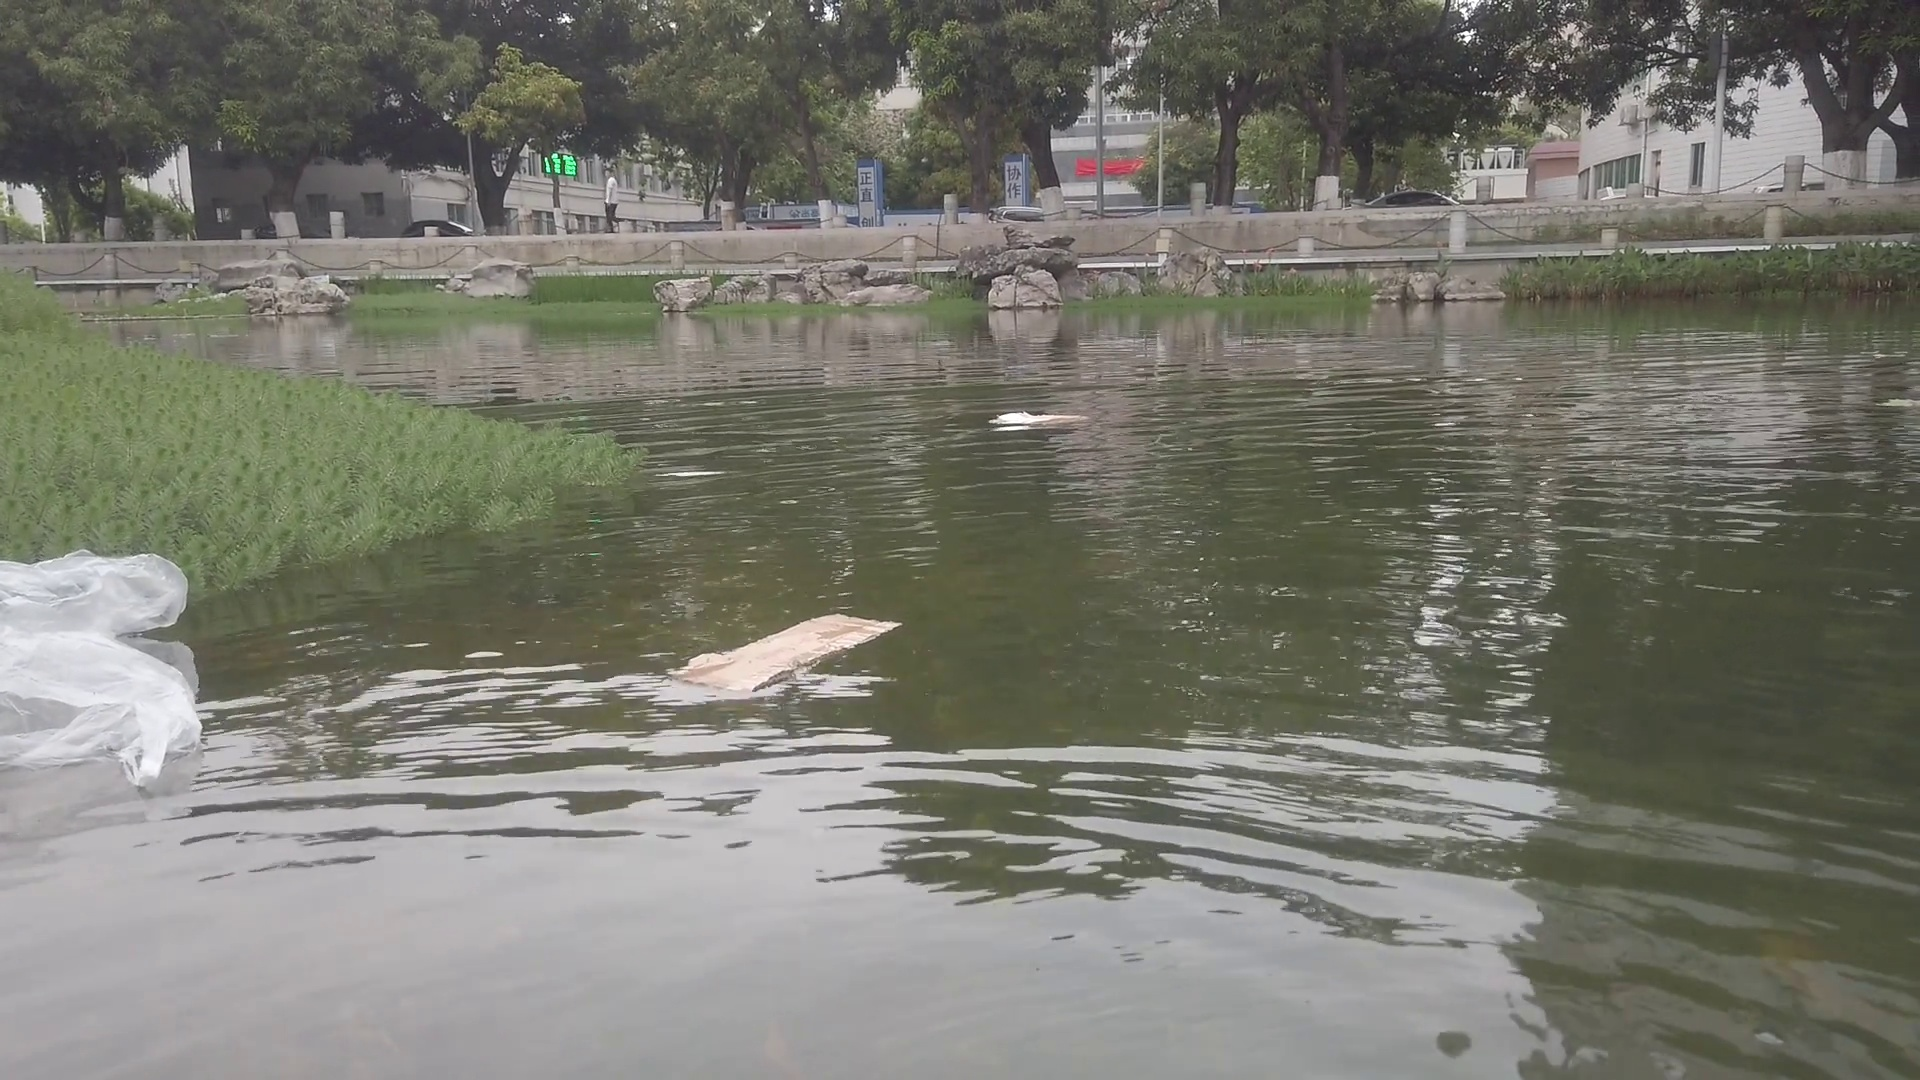paper: (670, 604, 902, 698), (994, 410, 1089, 427)
plastic: (8, 644, 212, 778), (5, 551, 193, 636)
